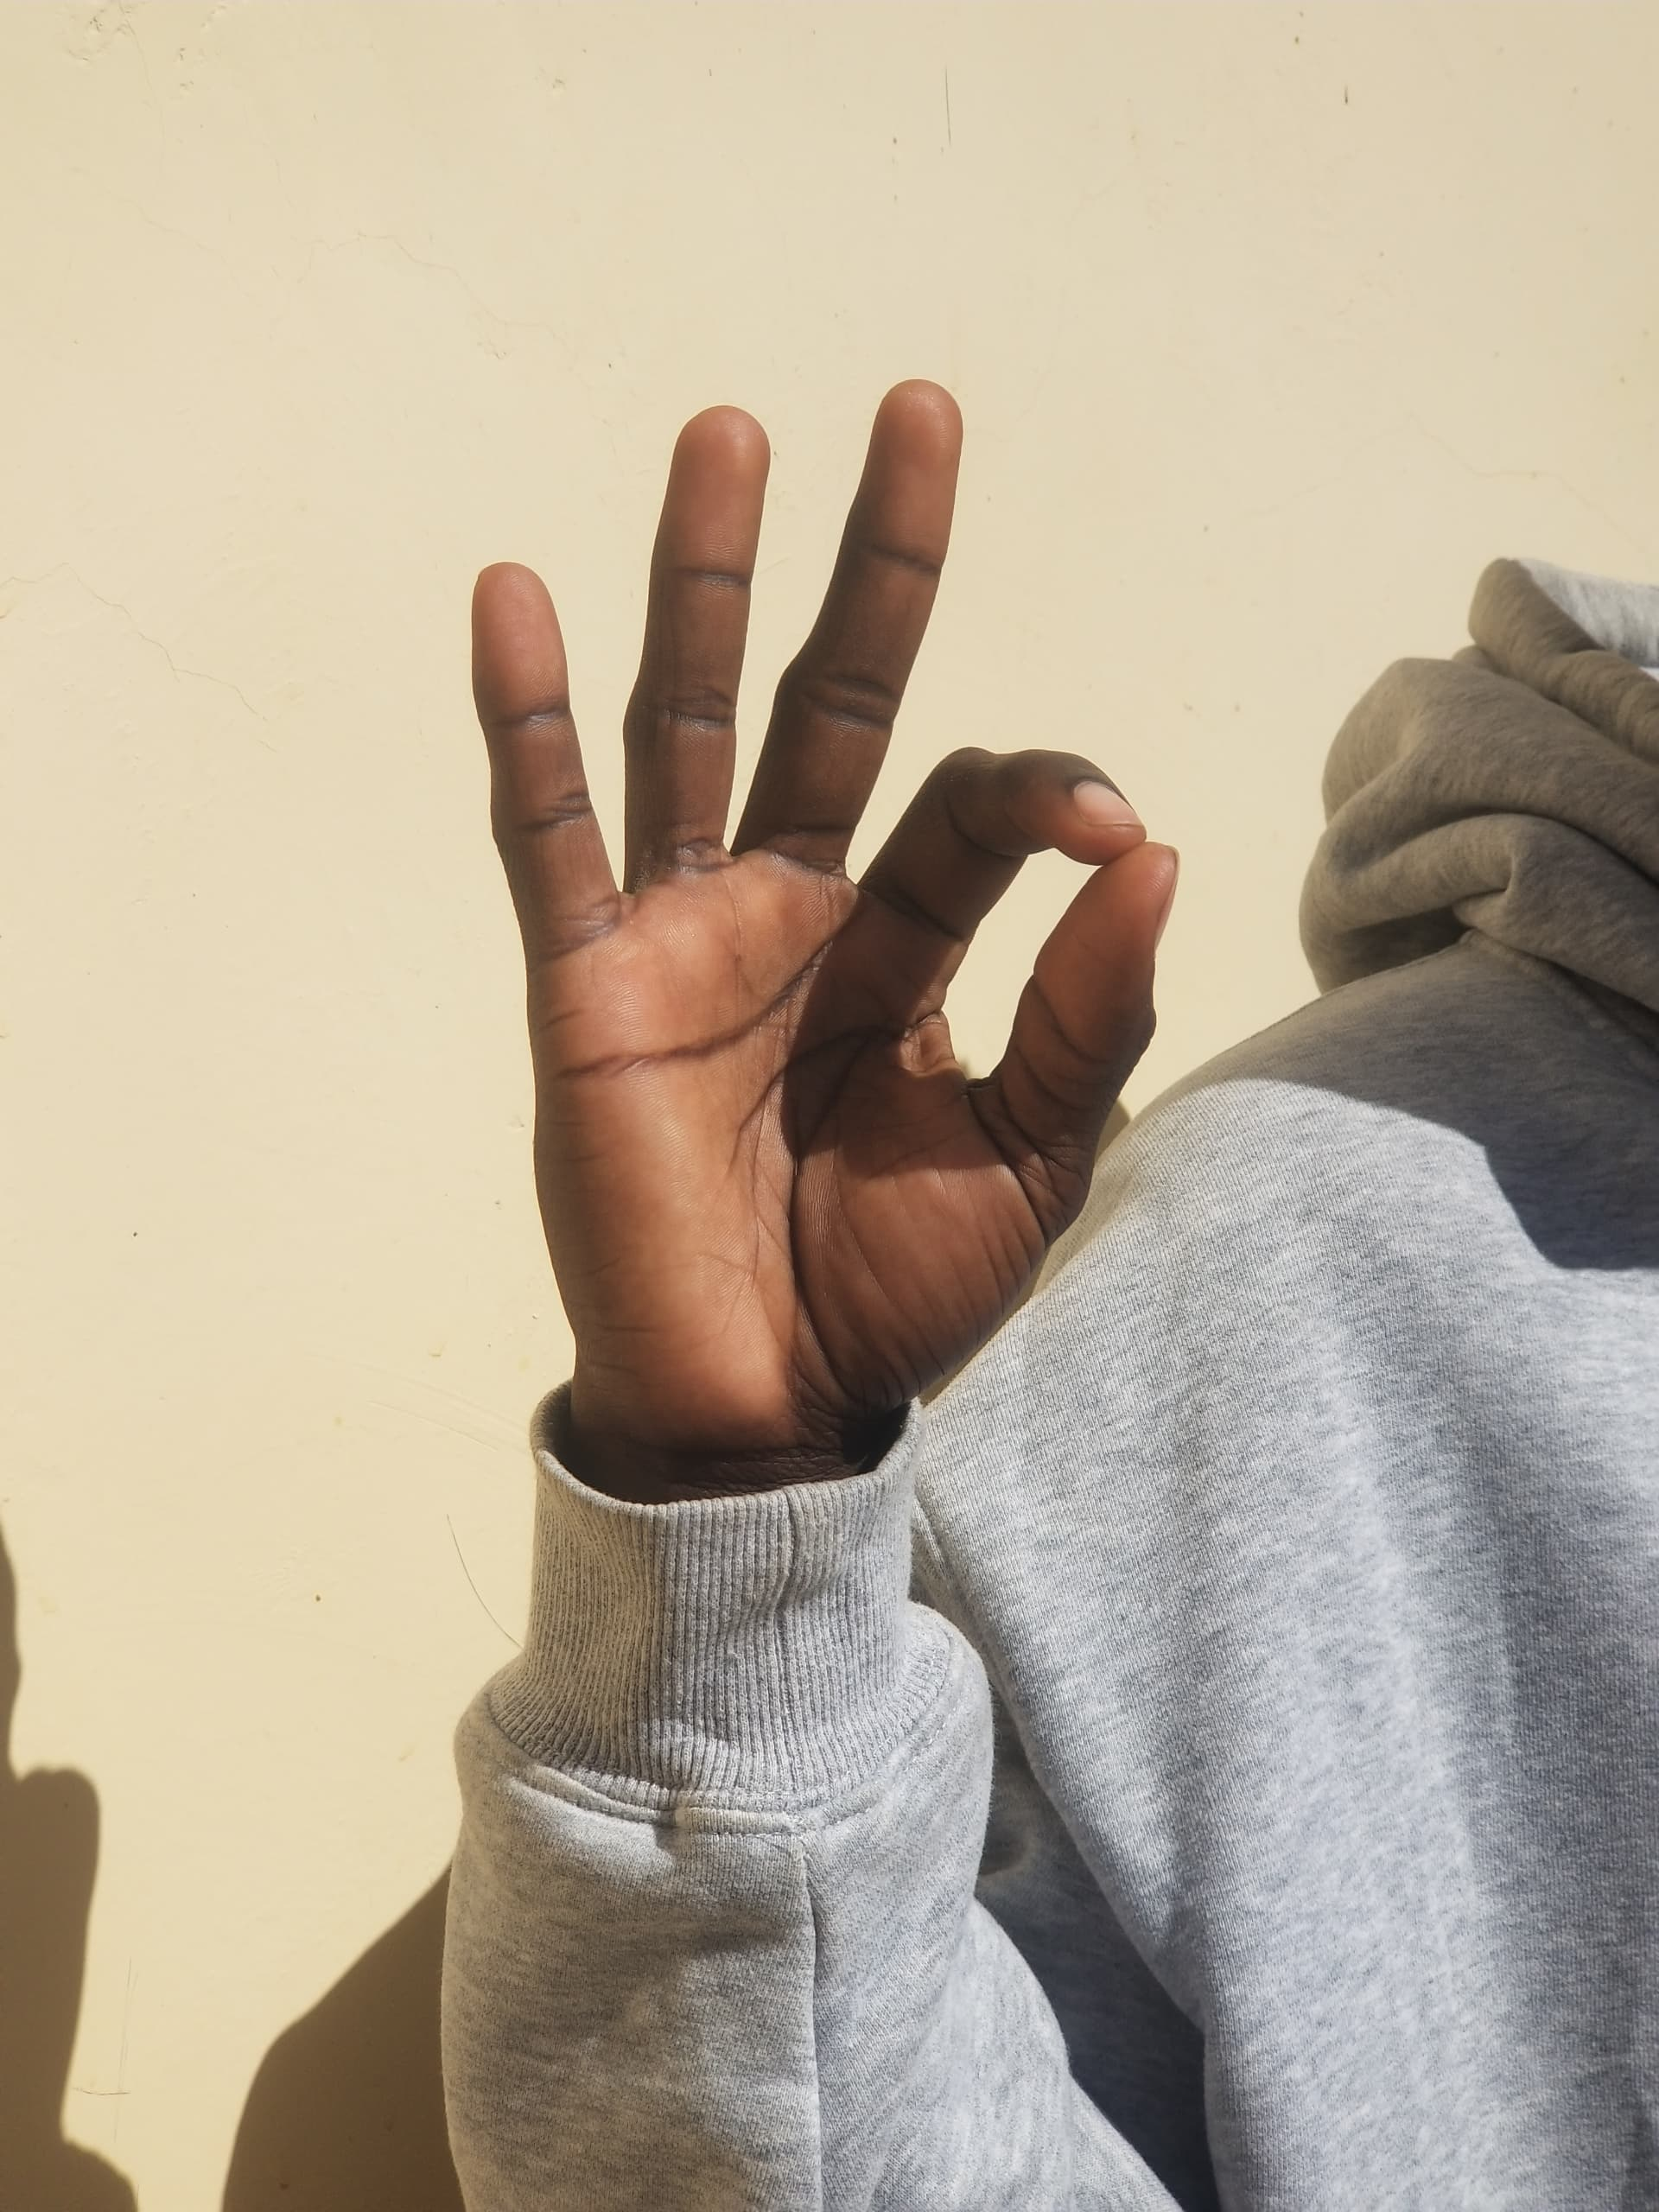okay: (350, 333, 1209, 1627)
